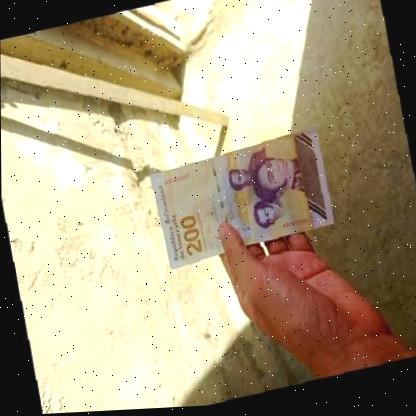two_hundred-front-vef: (144, 128, 337, 274)
